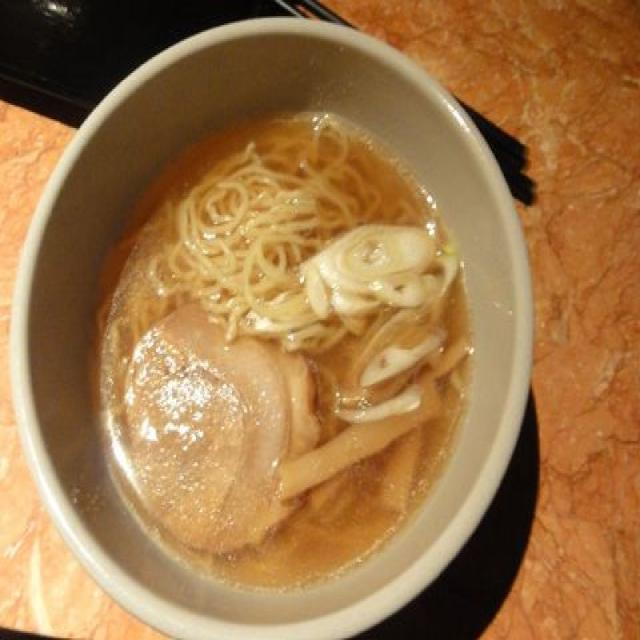面条主食: (8, 12, 520, 640)
